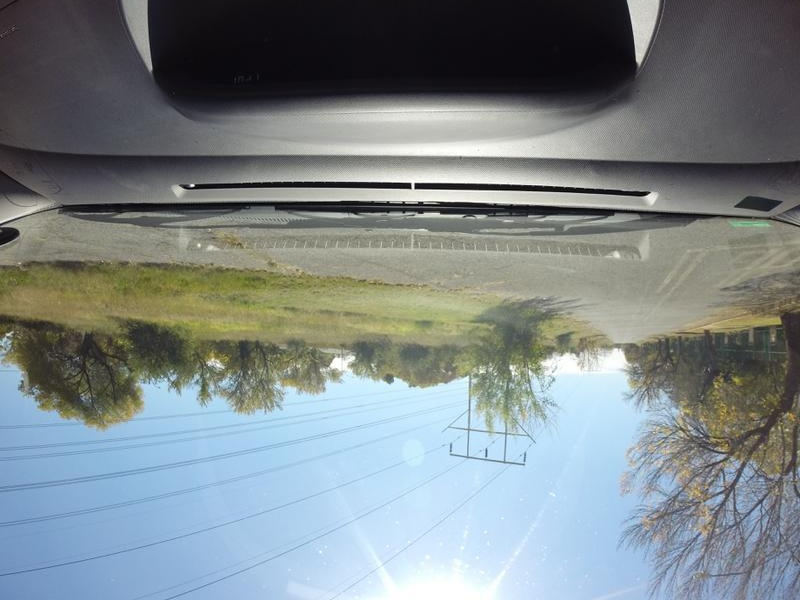pothole: (208, 226, 250, 251)
